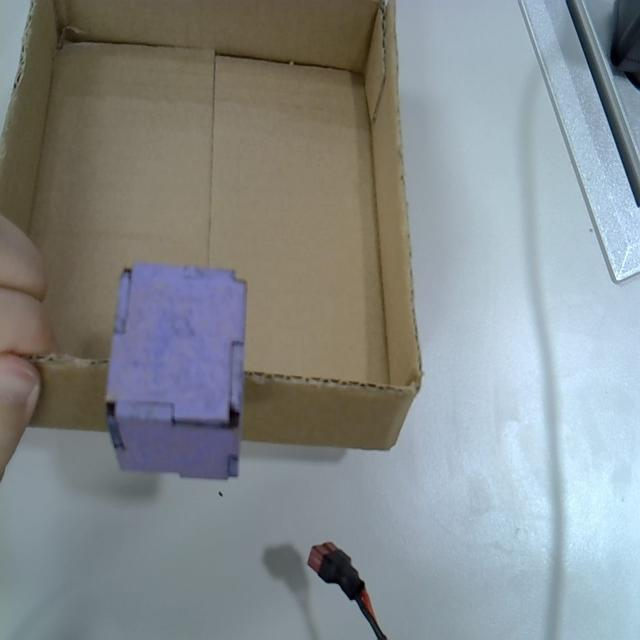purple_box: (108, 263, 248, 482)
